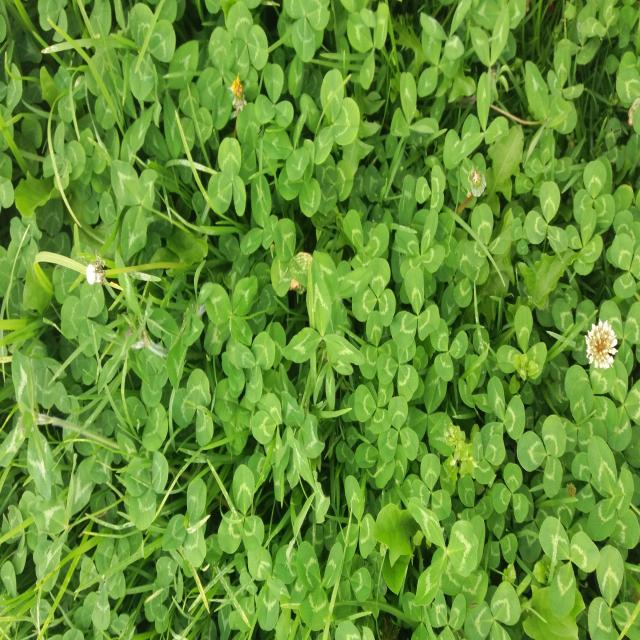Four Leaf Clover: (394, 210, 446, 280)
